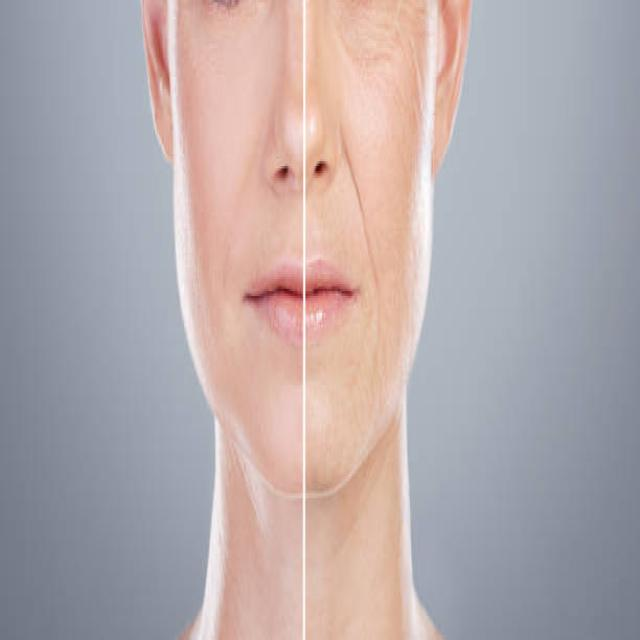Dry-Skin: (331, 22, 436, 351)
